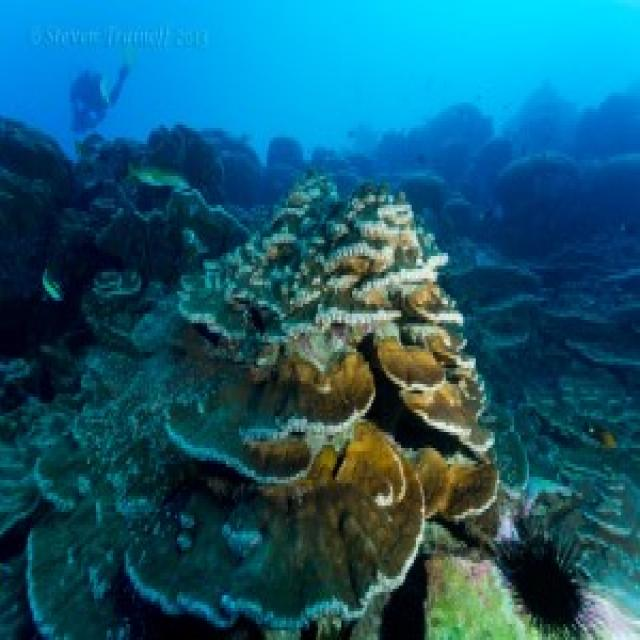Healthy: (129, 423, 426, 628), (178, 177, 447, 366), (29, 302, 172, 638), (167, 382, 310, 484), (248, 343, 374, 449), (404, 385, 494, 452), (374, 334, 445, 388), (403, 439, 451, 517), (440, 459, 496, 519)
